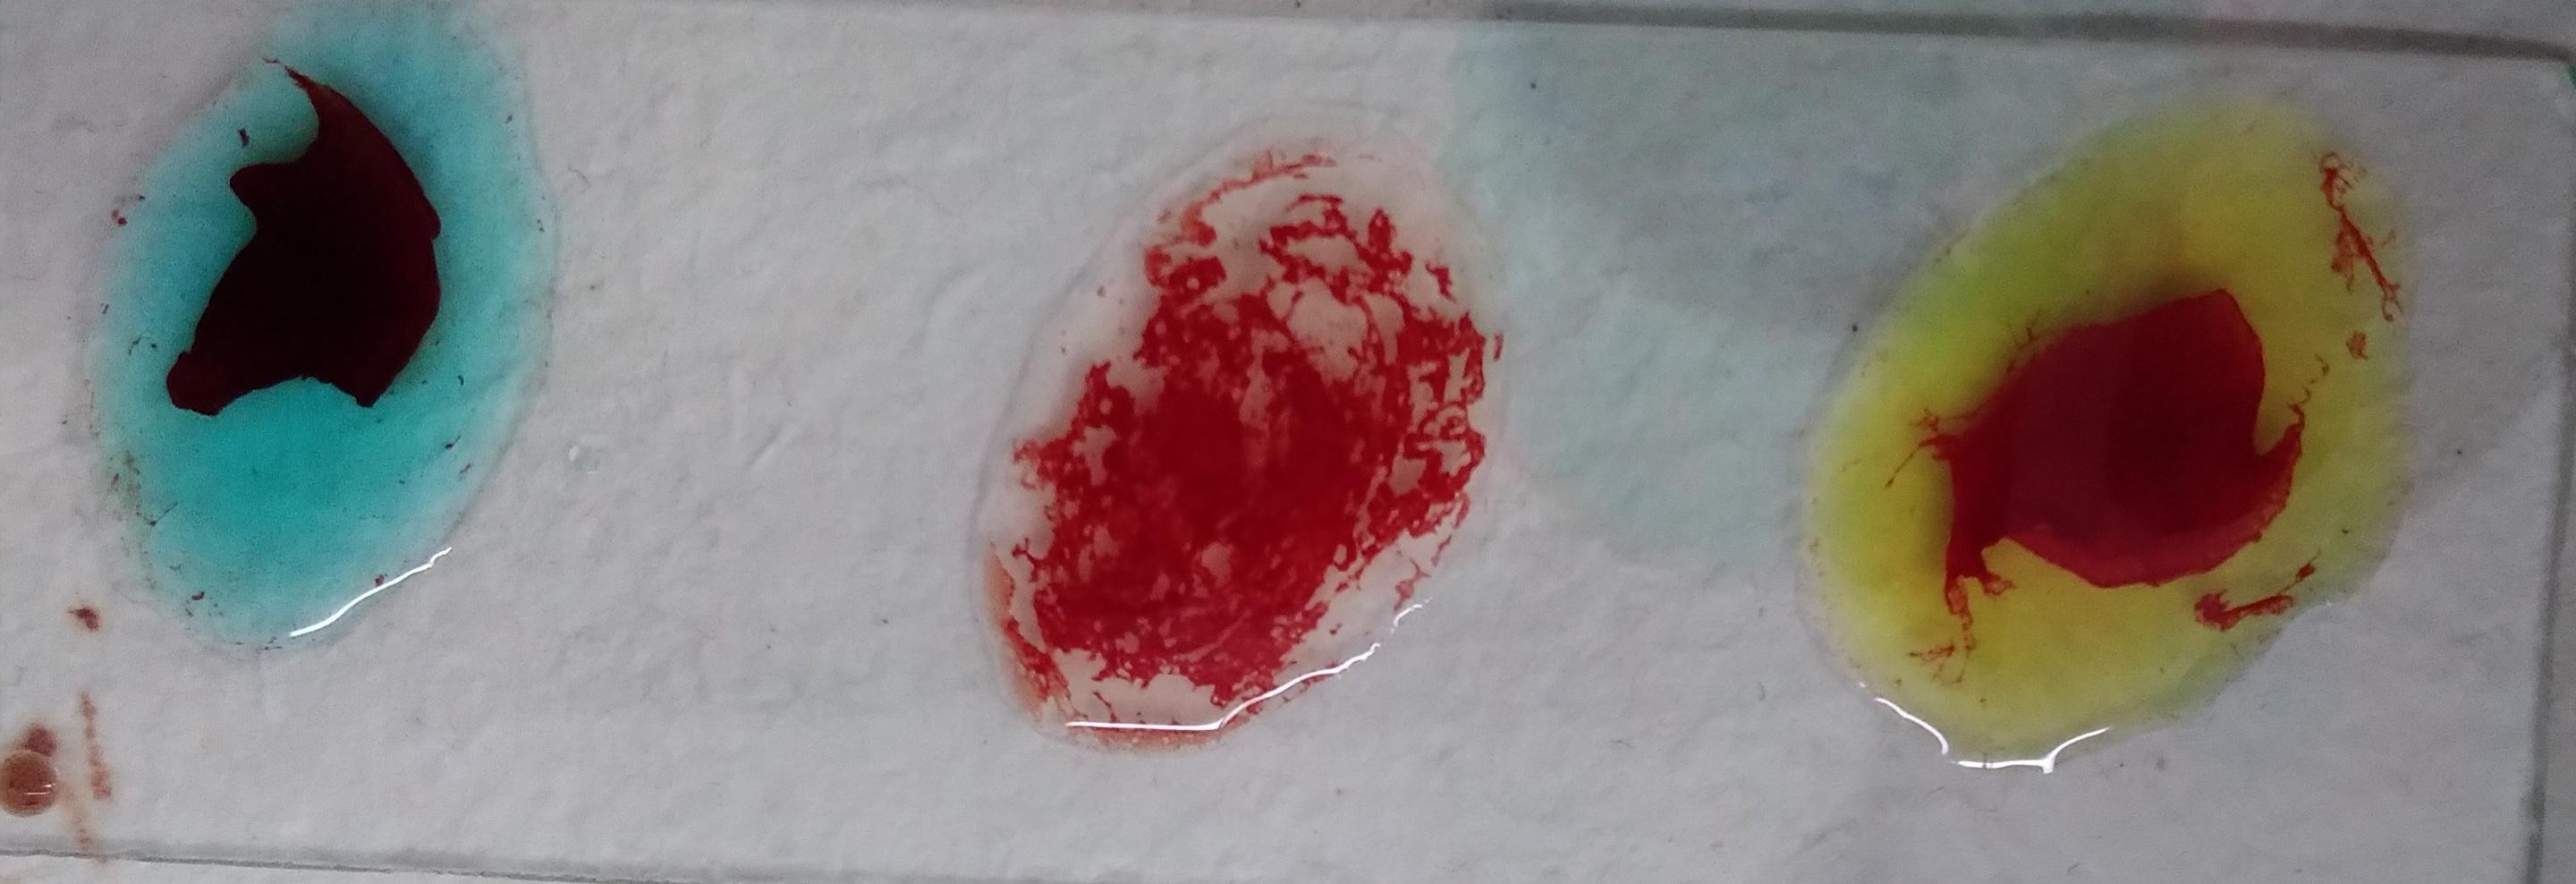A: (2031, 233, 2525, 864)
B: (174, 105, 751, 774)
D: (1068, 143, 1597, 753)
